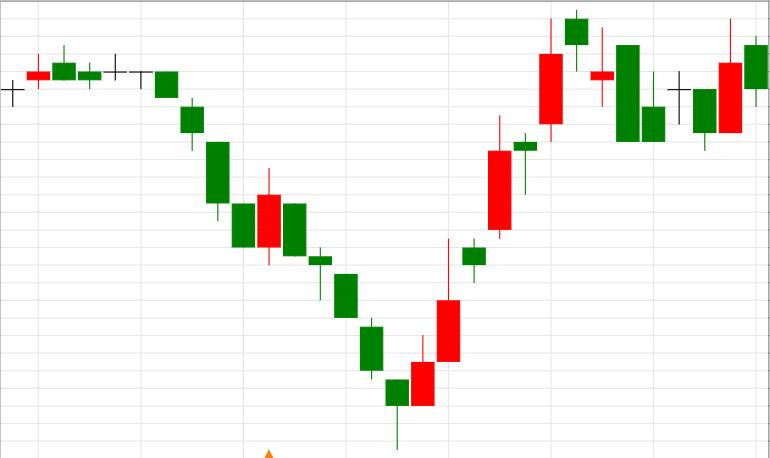hammer_rise: (154, 71, 409, 451)
